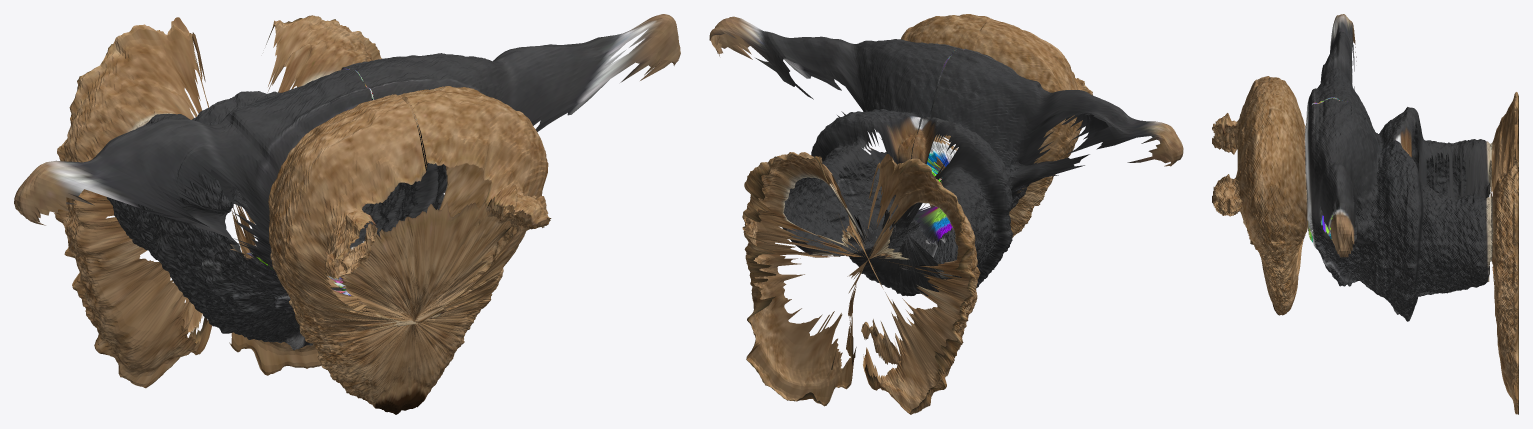
3 renders of one model, left to right at view 1: azimuth 30°, elevation 25°; view 2: azimuth 150°, elevation 25°; view 3: azimuth 270°, elevation 25°, orthographic. The views are drawn at different scales.
Parts seen in each view (by area): view 1: geometry_0; view 2: geometry_0; view 3: geometry_0.
Part boxes in pixels (x1,y1,x2,y2): geometry_0: [14, 14, 680, 414]; geometry_0: [709, 14, 1183, 414]; geometry_0: [1212, 14, 1518, 414].
Size of the model in its own units: 1.8 by 1.11 by 1.06.
1 material, 1 textured.
